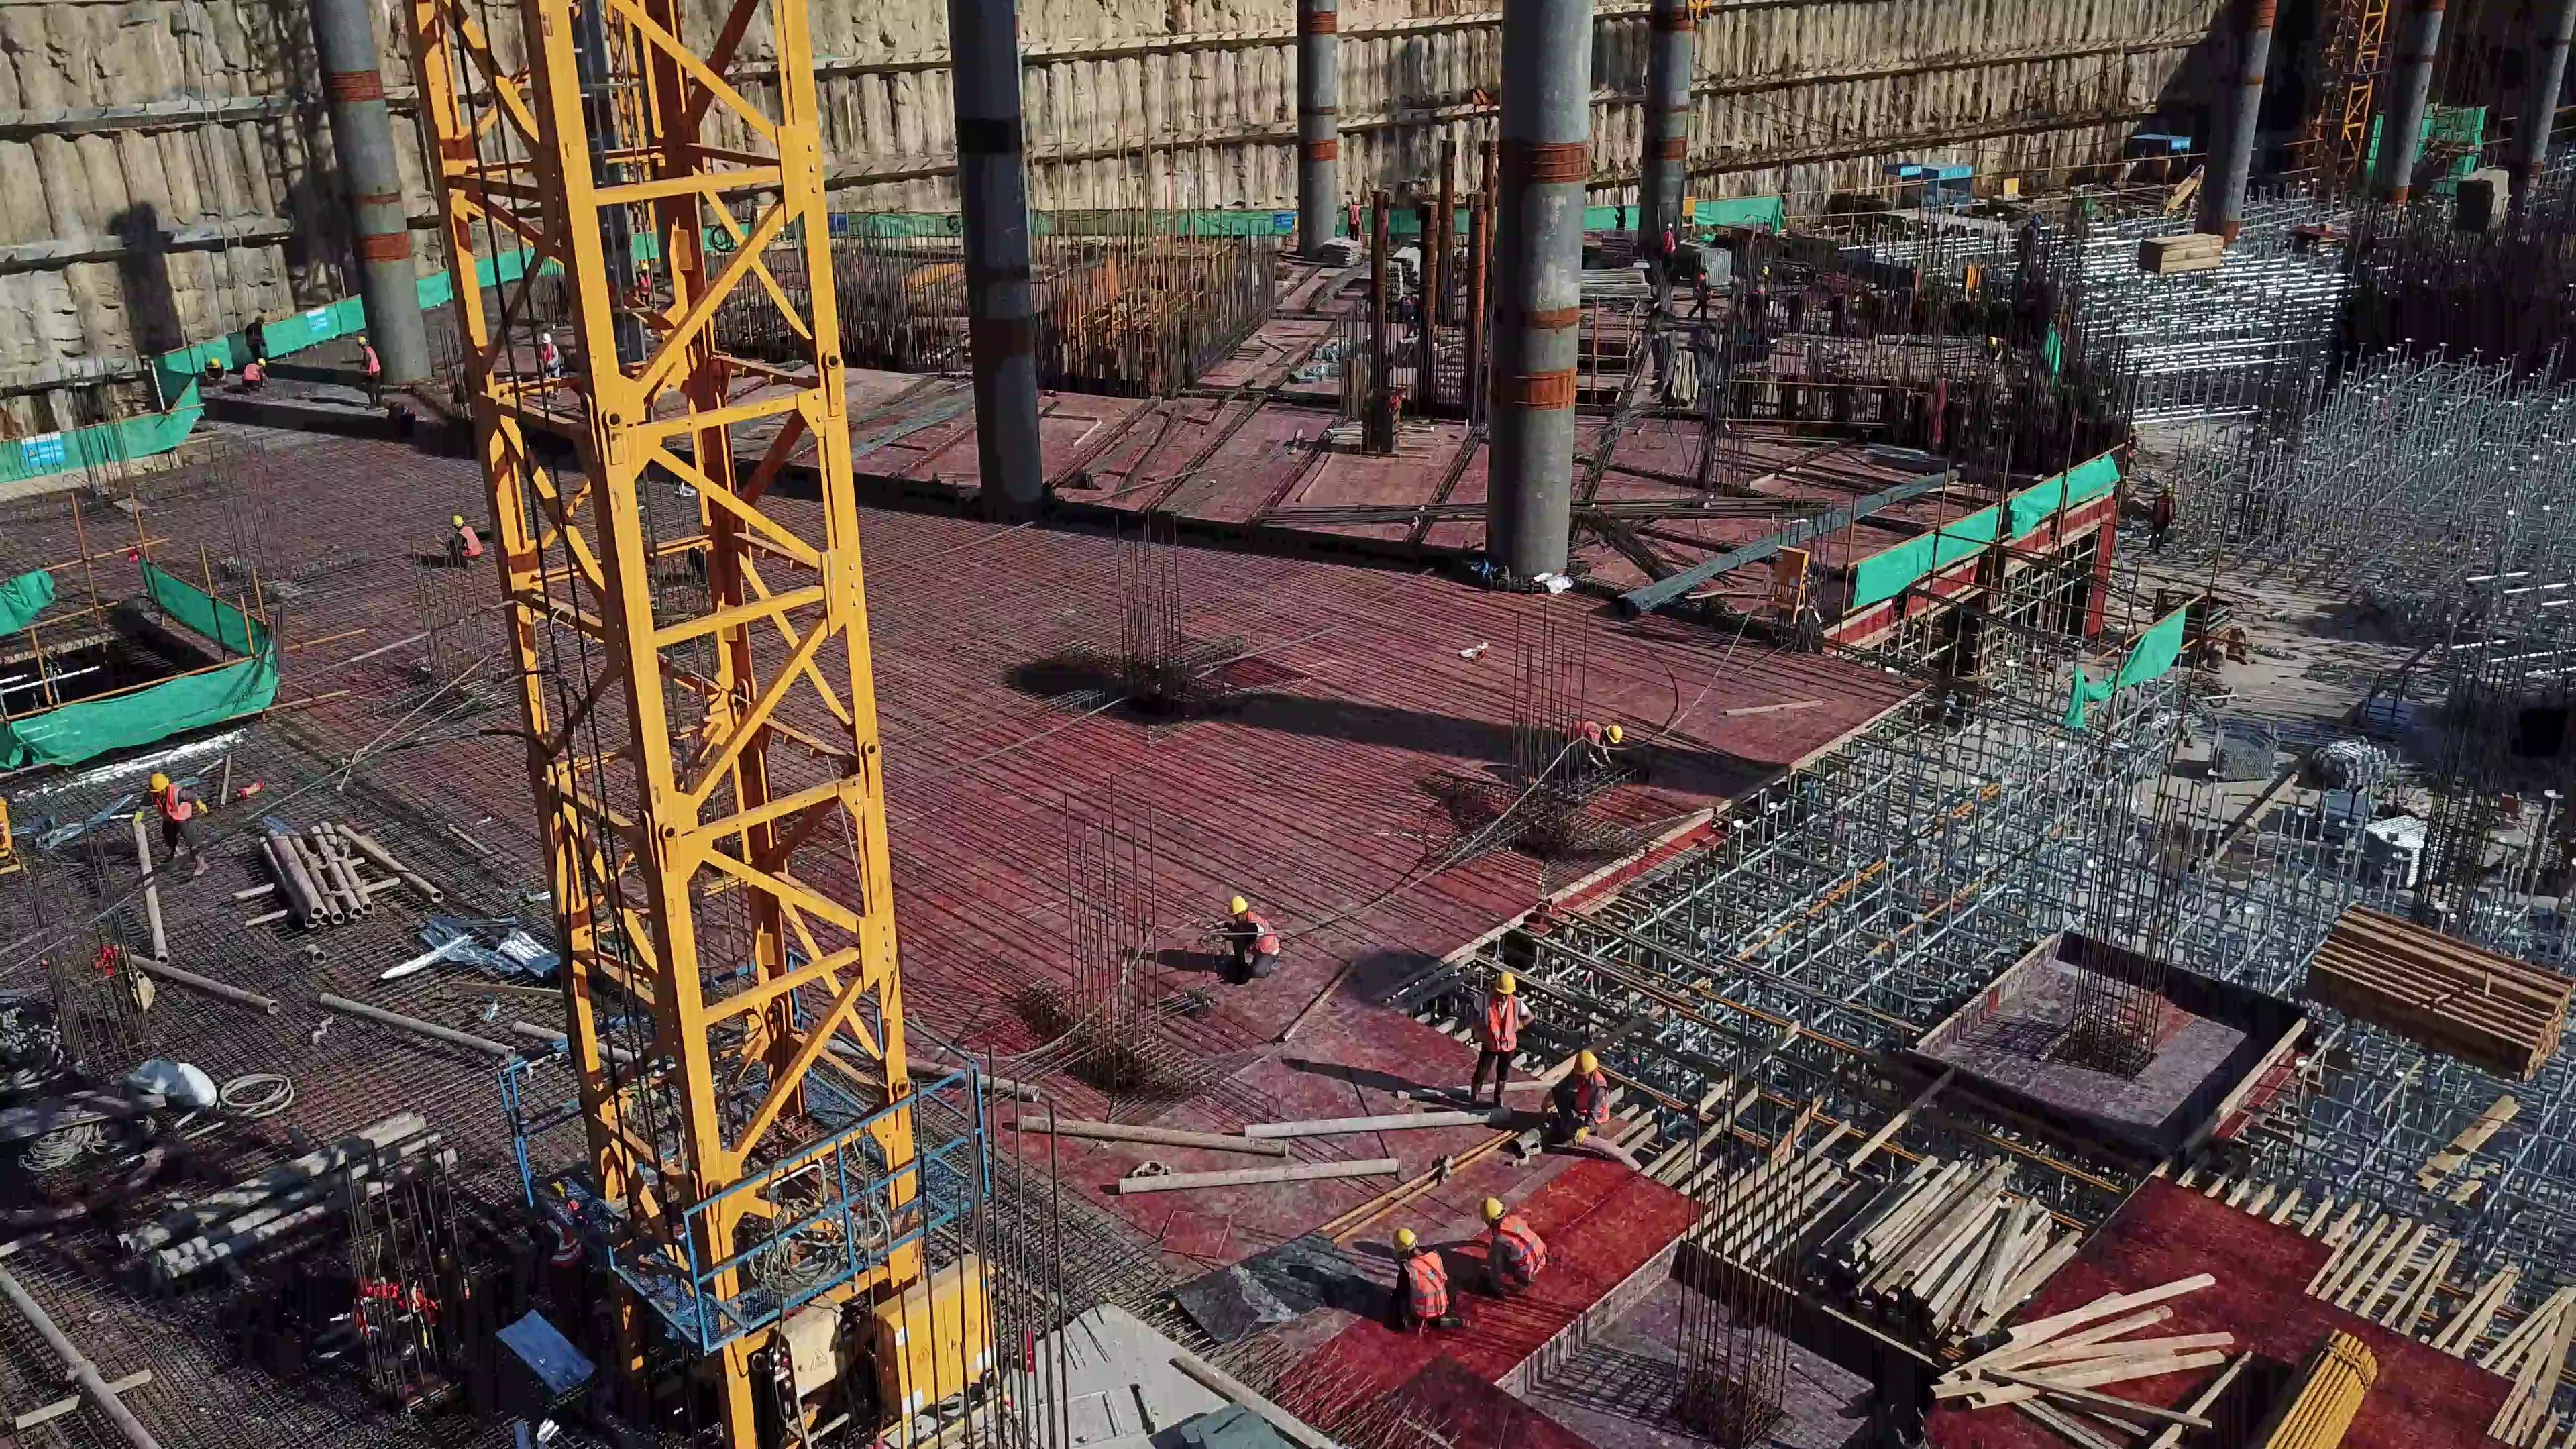ebox: (873, 1257, 1002, 1431), (1762, 544, 1817, 627), (1681, 190, 1699, 221), (2004, 172, 2019, 203)
helmet: (1572, 1050, 1604, 1077), (1390, 1224, 1421, 1250), (1479, 1195, 1506, 1222), (1490, 972, 1522, 994), (1223, 893, 1251, 916), (1603, 721, 1625, 748), (539, 333, 555, 346), (451, 515, 465, 529), (354, 336, 370, 346), (255, 313, 270, 323), (209, 357, 222, 366), (1350, 195, 1360, 205), (258, 357, 268, 368), (1700, 261, 1711, 270), (1666, 221, 1674, 230)
person: (1378, 1224, 1475, 1340), (532, 1177, 601, 1329), (1534, 1044, 1634, 1144), (1201, 889, 1303, 988), (1476, 1182, 1554, 1309), (1467, 971, 1536, 1106), (131, 767, 213, 878), (1555, 706, 1631, 780), (437, 507, 495, 570), (351, 329, 392, 411), (534, 325, 572, 402), (1684, 262, 1719, 323), (245, 310, 278, 364), (1658, 218, 1681, 284), (1342, 193, 1371, 244), (237, 354, 272, 390), (202, 352, 232, 390)
rebar: (1620, 474, 1961, 611), (1257, 494, 1835, 529), (1587, 500, 1733, 620)
scaffold: (2365, 816, 2443, 884), (2205, 723, 2286, 786)
vest: (1396, 1254, 1455, 1318), (1499, 1223, 1546, 1279), (1479, 993, 1522, 1052), (1567, 1074, 1613, 1121), (1234, 916, 1284, 957), (150, 790, 194, 824), (455, 528, 486, 557), (364, 345, 382, 375), (241, 363, 262, 381), (1661, 230, 1676, 252), (1348, 205, 1362, 225)
wood: (1820, 1144, 2082, 1343), (2302, 890, 2557, 1086), (2133, 229, 2231, 276)
